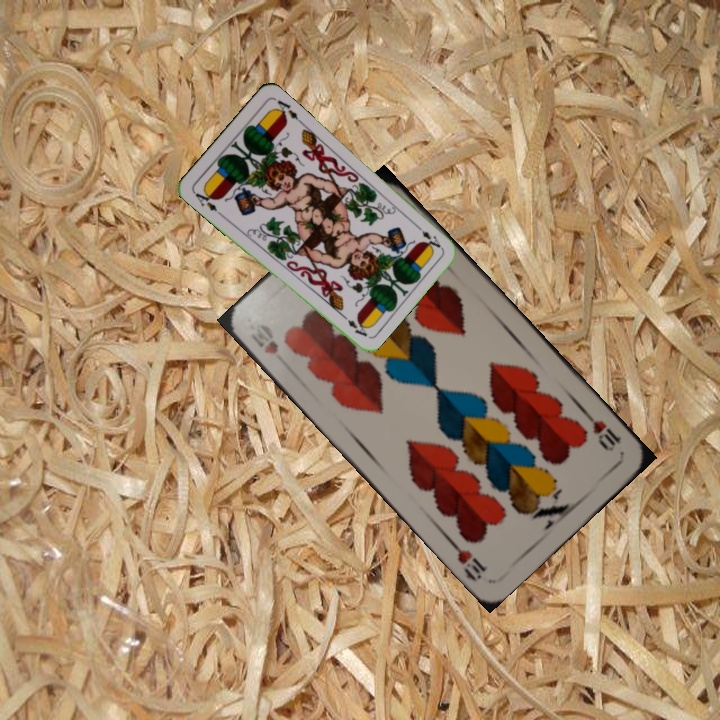EA: (189, 186, 224, 218), (411, 220, 444, 251)
H10: (580, 407, 624, 455), (246, 319, 281, 357)
